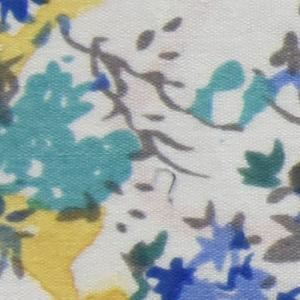Oil Stain: (1, 187, 131, 300), (1, 1, 112, 93)
